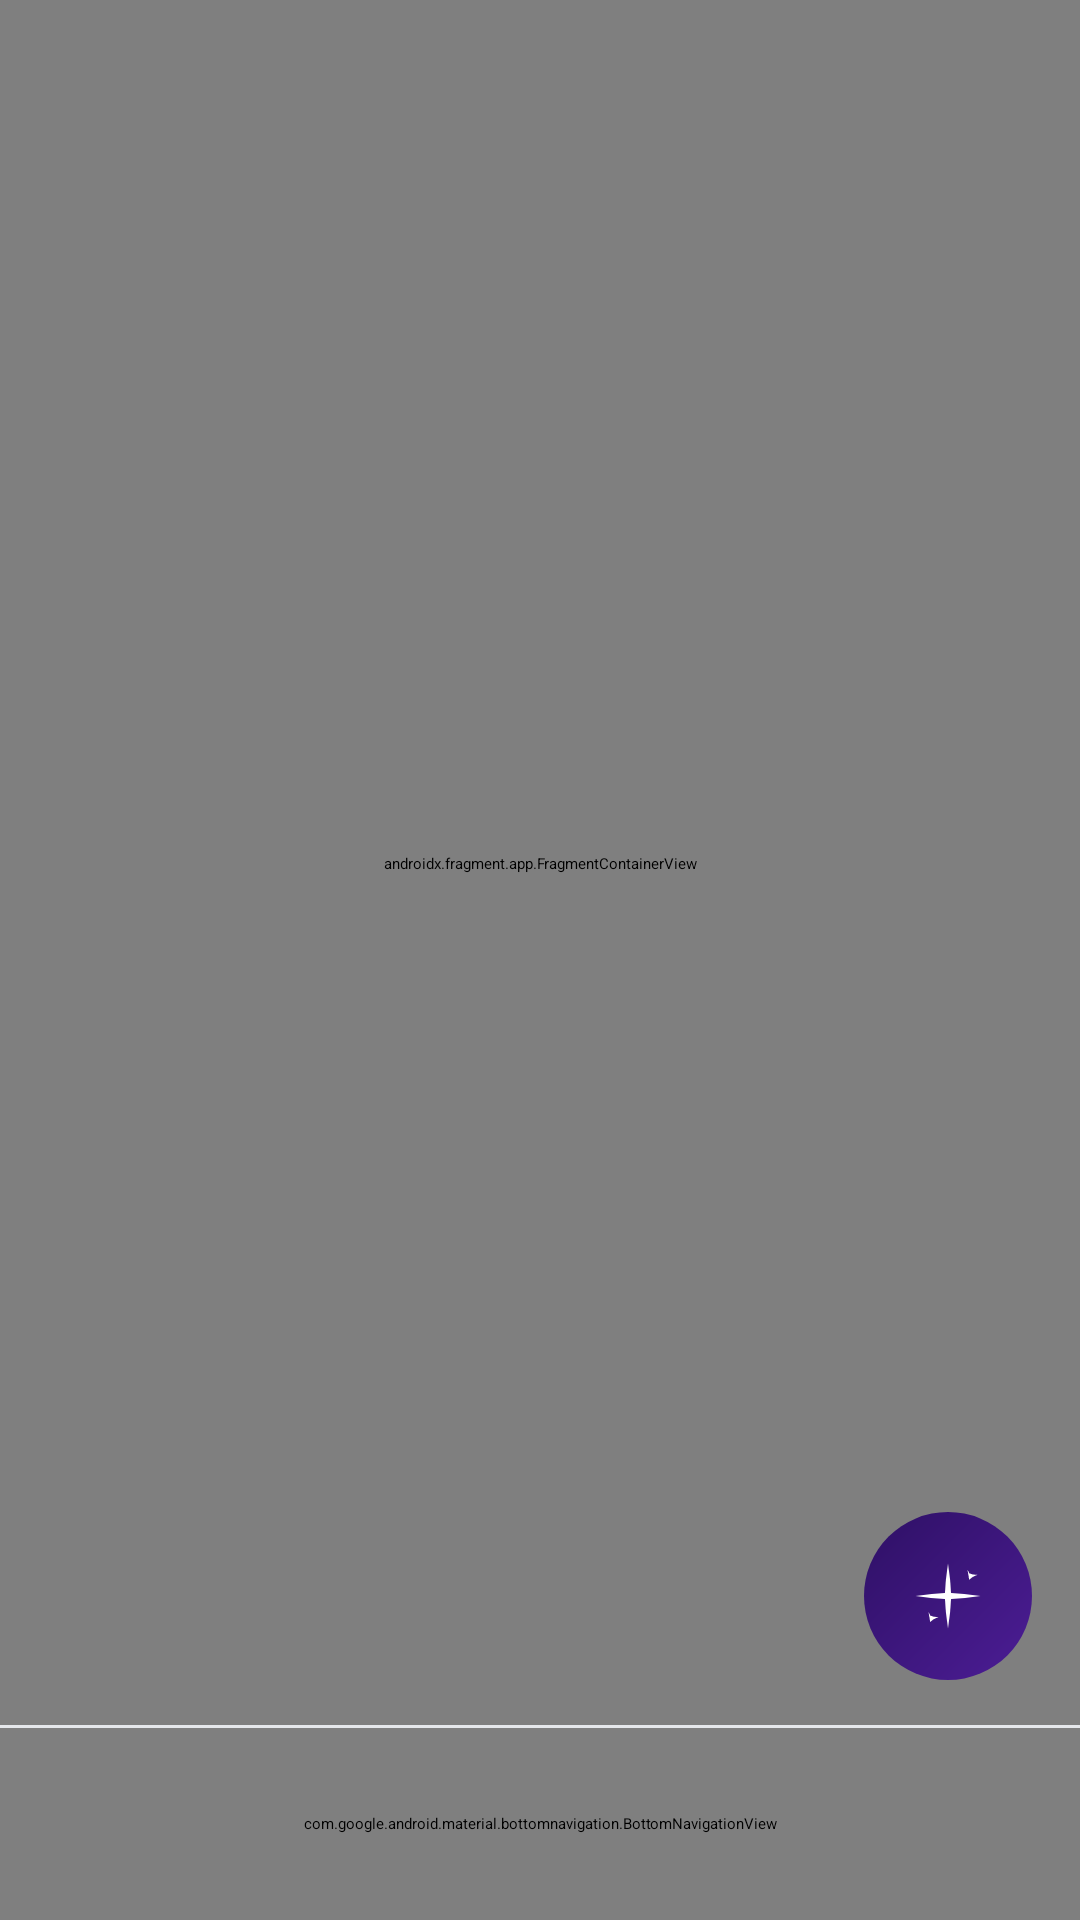

Where to tap for icons on this 1080x1920 app screen, as [x,y]:
ai star: [948,1596]
